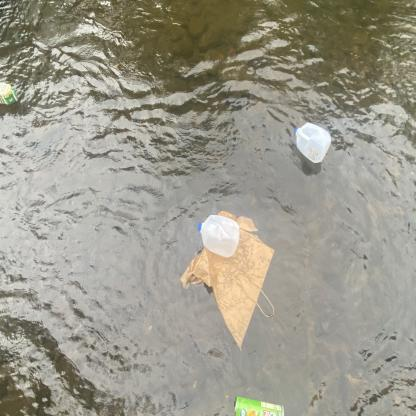trash: (176, 210, 277, 354), (194, 211, 241, 259), (290, 119, 334, 168), (226, 394, 284, 416), (0, 80, 21, 112)
